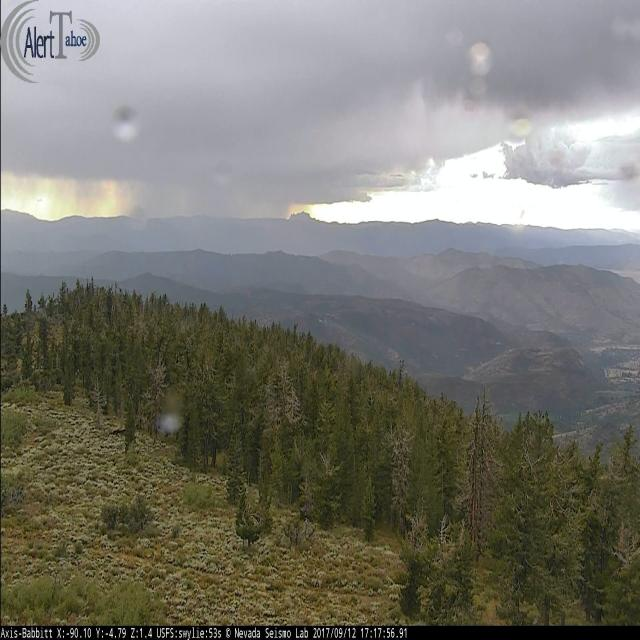smoke: (319, 316, 331, 326)
